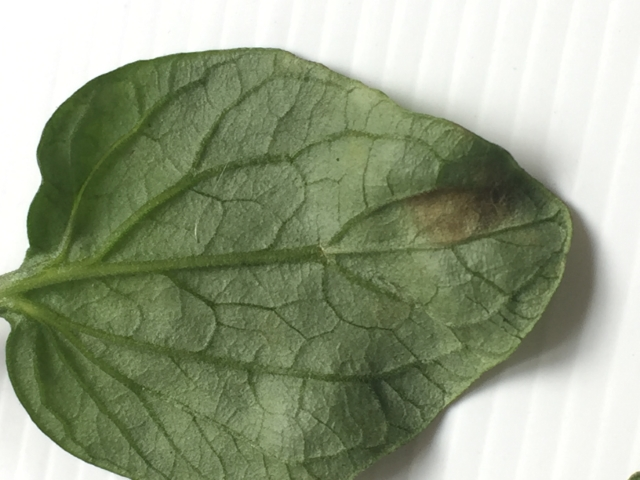cladosporium: (406, 186, 511, 242)
